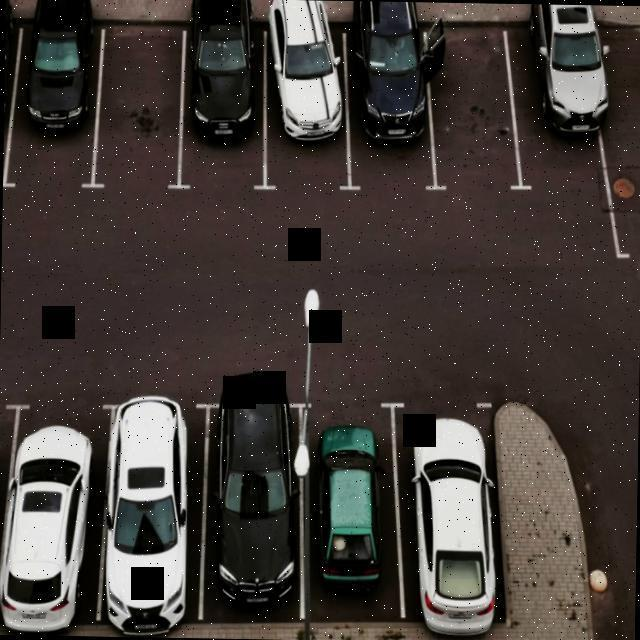car: (394, 390, 510, 630), (0, 383, 107, 633), (296, 393, 406, 630), (202, 386, 307, 623), (106, 388, 204, 628), (8, 8, 102, 188), (262, 20, 354, 196), (349, 18, 441, 194), (513, 7, 599, 194), (180, 23, 270, 194), (0, 399, 23, 634), (2, 5, 16, 186)
free: (429, 17, 523, 194), (96, 12, 185, 189)
